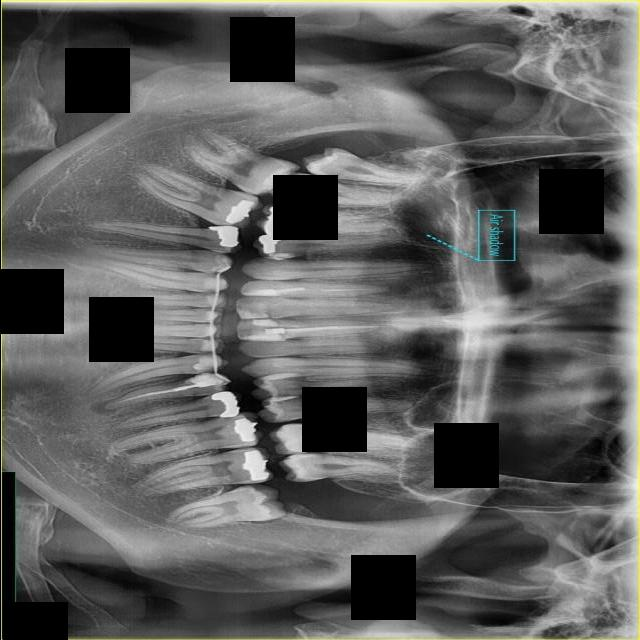71: (265, 326, 338, 335), (171, 379, 218, 392), (256, 286, 305, 296)
74: (111, 387, 178, 405), (337, 325, 389, 329), (319, 289, 386, 292)
NucleOSS Implant: (261, 201, 298, 239), (210, 387, 242, 421), (224, 194, 254, 229), (241, 451, 270, 481), (230, 416, 258, 444), (257, 232, 290, 254), (207, 226, 239, 248)
Sterngold Implant: (219, 472, 244, 484), (220, 418, 233, 422)
Straumann Implant: (186, 369, 231, 390), (191, 353, 219, 373), (246, 331, 287, 341), (236, 307, 268, 319), (250, 317, 279, 328), (240, 288, 279, 296), (204, 275, 225, 289), (214, 262, 230, 275), (200, 340, 217, 352), (206, 296, 222, 305), (204, 324, 217, 335), (206, 312, 218, 321)
